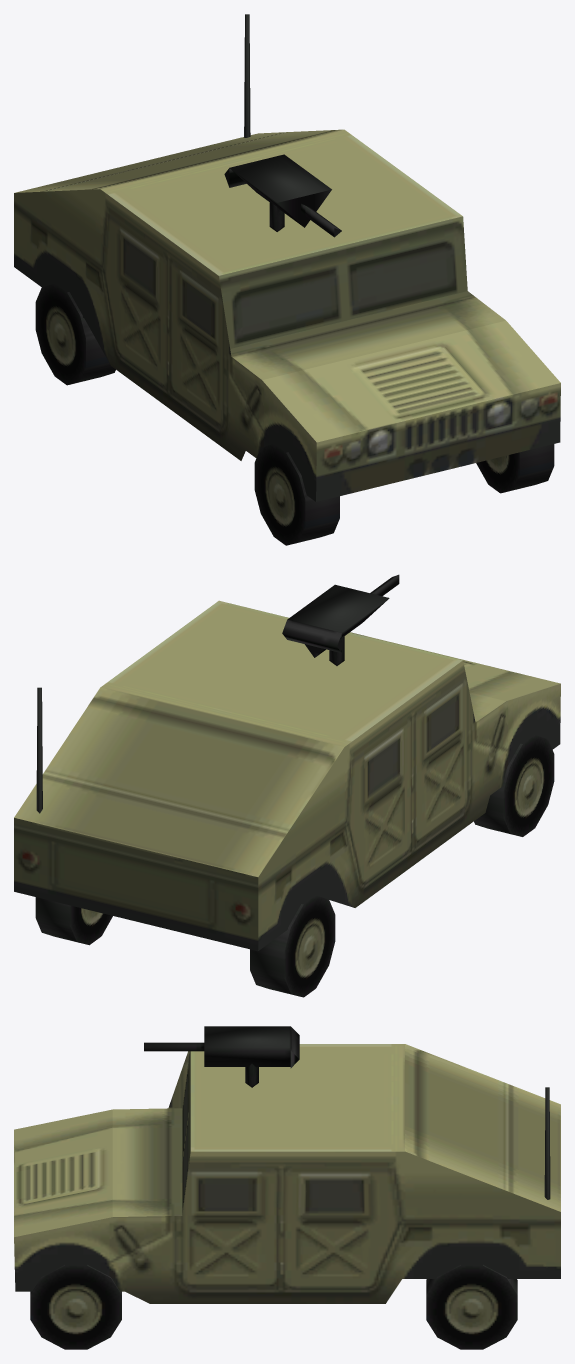
The model's file is Contact_Truck.DAE.
3 views of the same model, one above another, from view 1: azimuth 30°, elevation 25°; view 2: azimuth 150°, elevation 25°; view 3: azimuth 270°, elevation 25° (orthographic). The views are drawn at different scales.
Parts seen in each view (by area): view 1: _1481_ContactTruck; view 2: _1481_ContactTruck; view 3: _1481_ContactTruck.
Boxes of the visible parts, <box> form: _1481_ContactTruck: <box>14,14,560,545</box>; _1481_ContactTruck: <box>14,574,560,997</box>; _1481_ContactTruck: <box>14,1026,560,1349</box>.
Size of the model in its own units: 91.73 by 98.5 by 193.
1 material, 1 textured.
